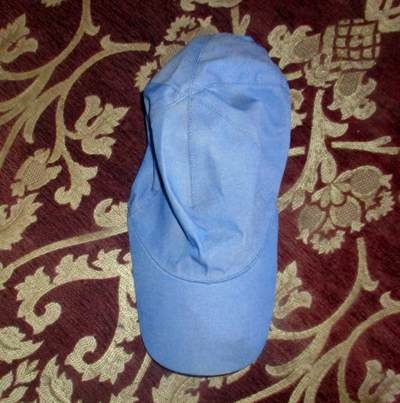Hat: (115, 15, 331, 374)
